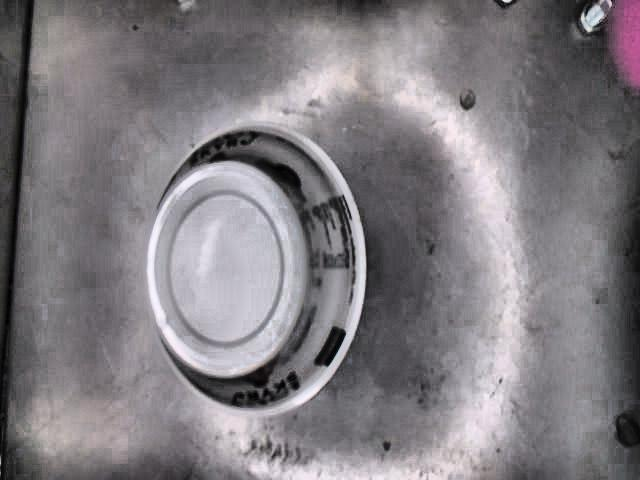Plastic: (144, 119, 365, 417)
